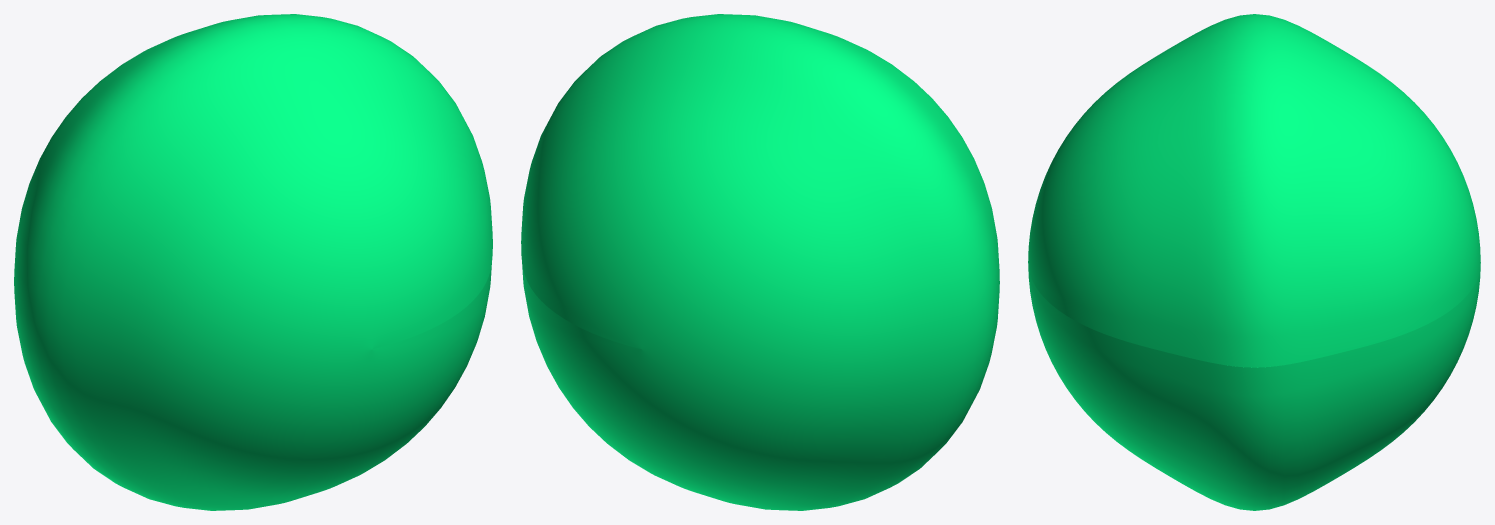
Rendered from qubit_bloch_sphere_solid_fallback_1767918671353.glb.
3 renders of one model, left to right at view 1: azimuth 30°, elevation 25°; view 2: azimuth 150°, elevation 25°; view 3: azimuth 270°, elevation 25°, orthographic. The views are drawn at different scales.
Parts seen in each view (by area): view 1: MathShape; view 2: MathShape; view 3: MathShape.
Part boxes in pixels (x1,y1,x2,y2): MathShape: [14, 14, 492, 510]; MathShape: [521, 14, 999, 510]; MathShape: [1028, 14, 1480, 510].
Bounding box in the file's own units: 4.4 × 4.4 × 4.
